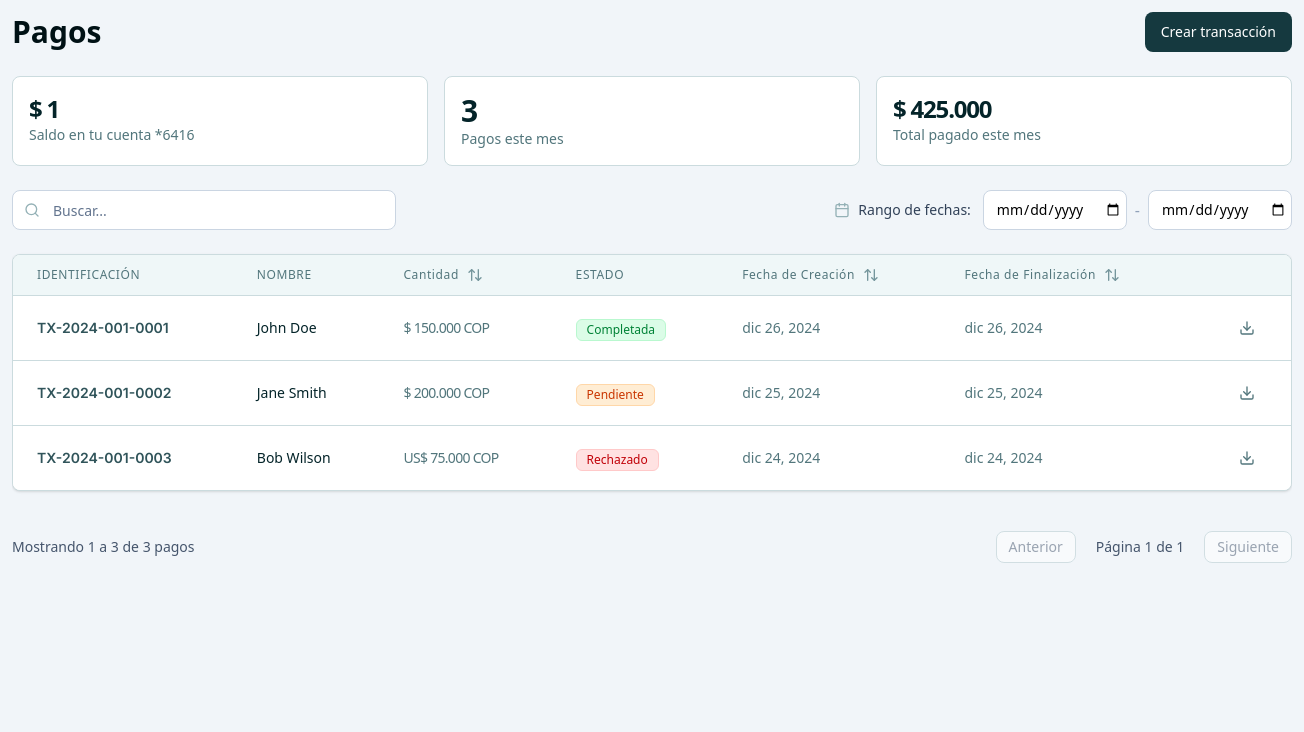
Test: Payments Integration › should filter payments by search query
This screenshot has width=1304, height=732.
In the field with placeholder "Buscar...": (204,210) [12,190,396,230], type "John"
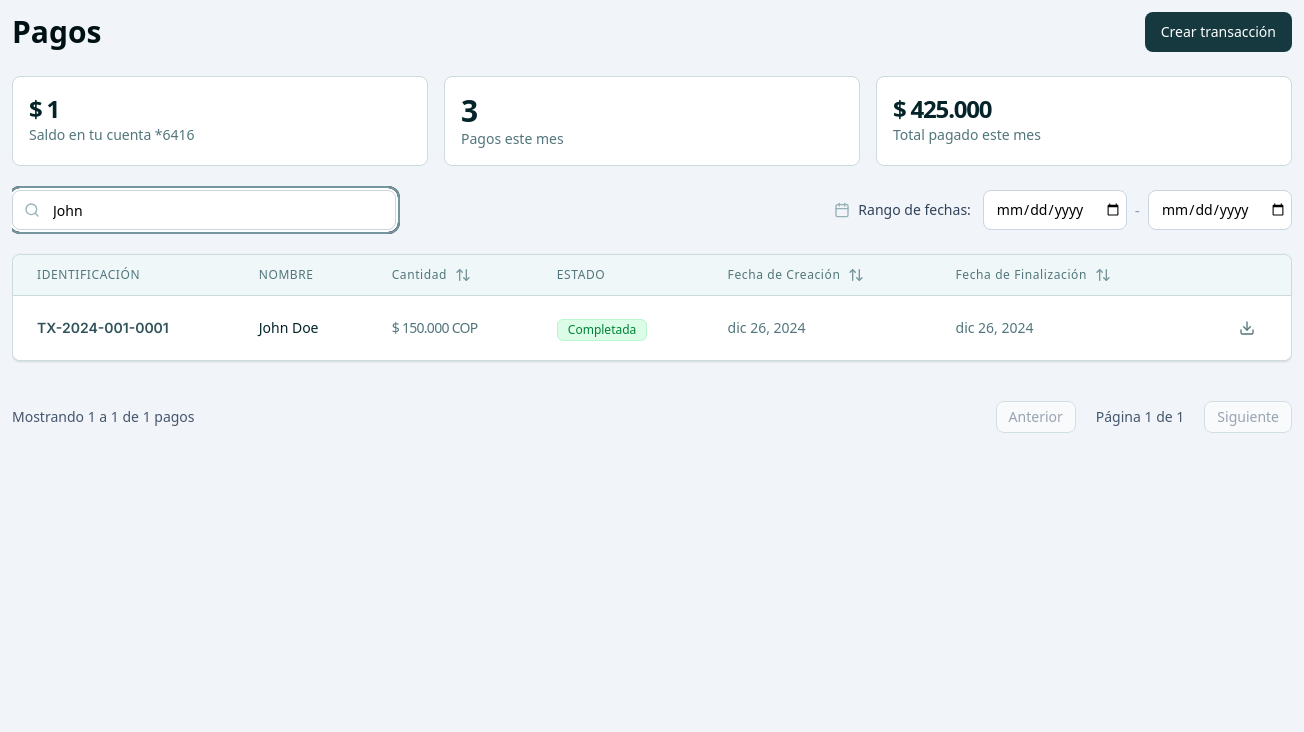
Check: the text "John Doe" is shown, box [235,296,368,360]
Check: the text "Jane Smith" is gone
